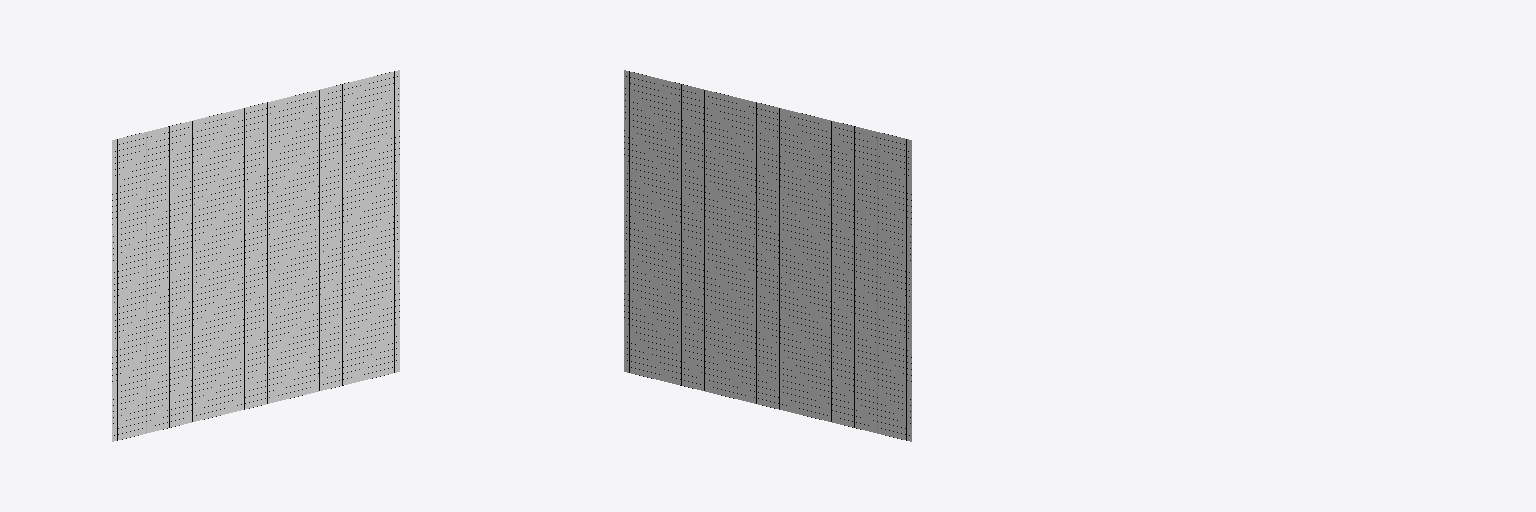
The picture shows the model from 3 angles: view 1: azimuth 30°, elevation 25°; view 2: azimuth 150°, elevation 25°; view 3: azimuth 270°, elevation 25°; orthographic projection.
Parts seen in each view (by area): view 1: Plane; view 2: Plane; view 3: none.
Boxes of the visible parts, box(x1,y1,x2,y2) form: Plane: box(112, 70, 399, 441); Plane: box(624, 70, 911, 441).
Bounding box in the file's own units: 100 × 100 × 0.
Materials: 1 (1 with a texture image).